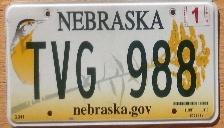8: (174, 38, 198, 98), (151, 38, 173, 99)
9: (127, 40, 149, 99)
G: (73, 39, 99, 100)
T: (24, 39, 49, 102)
V: (49, 40, 73, 100)
